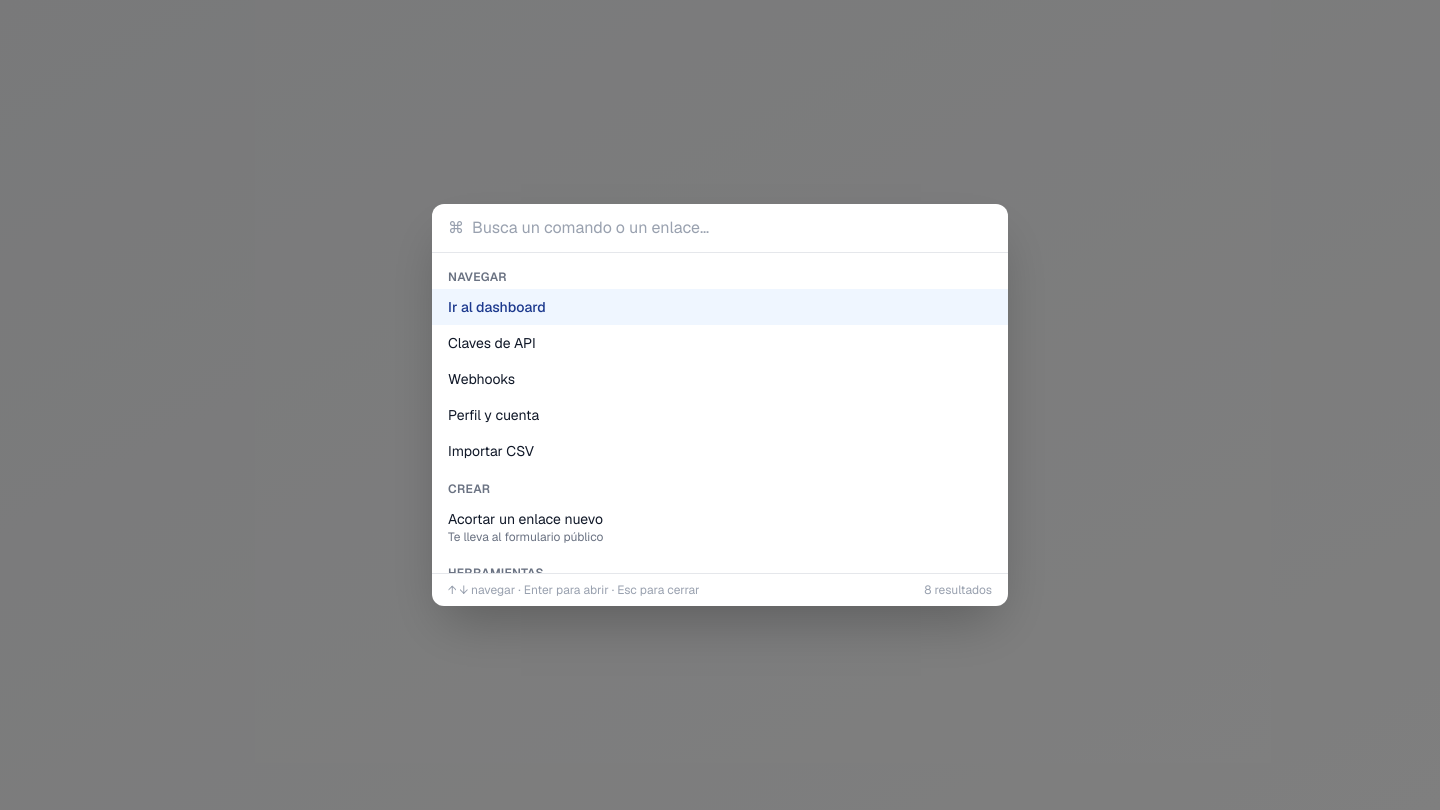
Scenario: CommandPalette › muestra 'Sin resultados' cuando el query no matchea nada
Type "asdfqwerty-zzz" into the field named "Buscar comandos".
click(732, 228); type("asdfqwerty-zzz")  # box [472, 216, 992, 240]
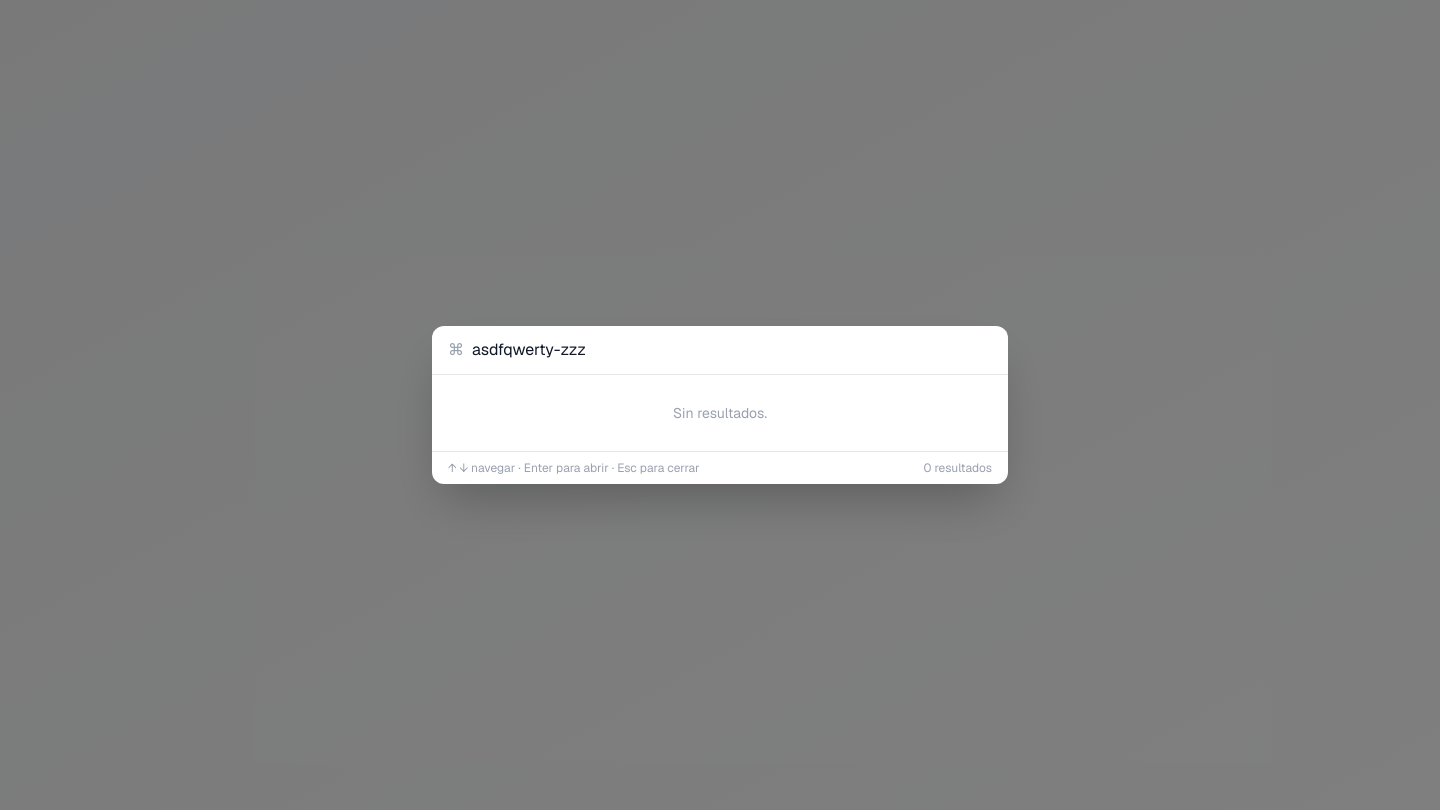
Now the list item "Sin resultados." is shown, box [673, 404, 767, 422]
